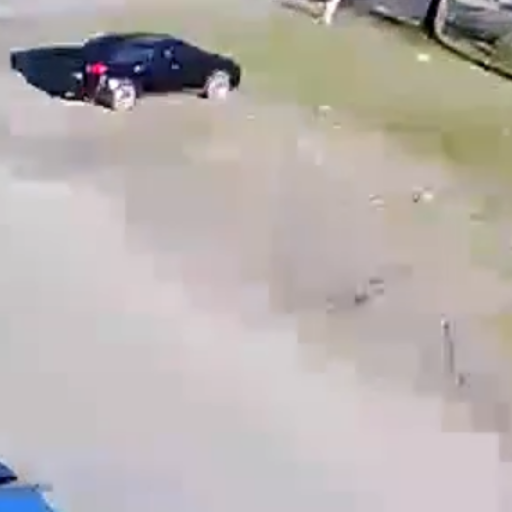Car: (72, 29, 239, 105)
